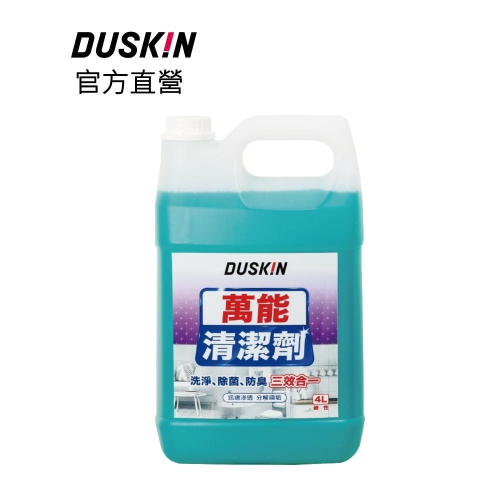cleaner: (144, 112, 368, 465)
